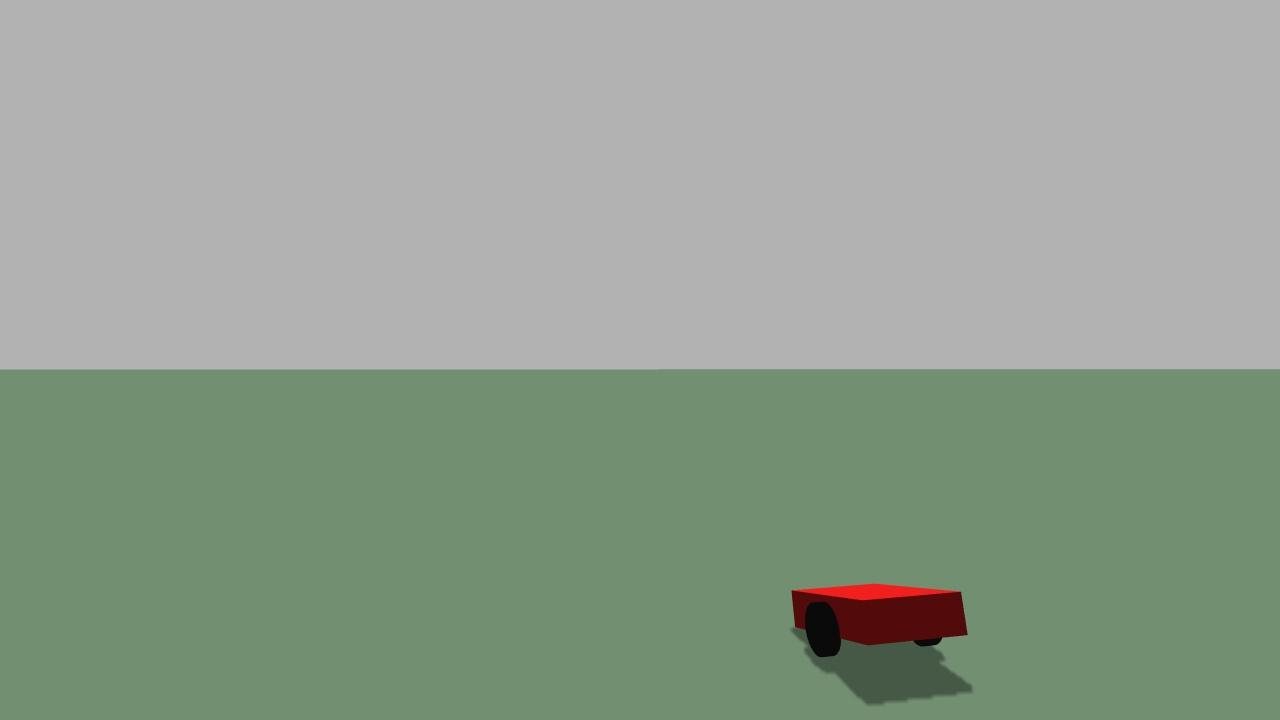ground_vehicle: (779, 573, 985, 665)
